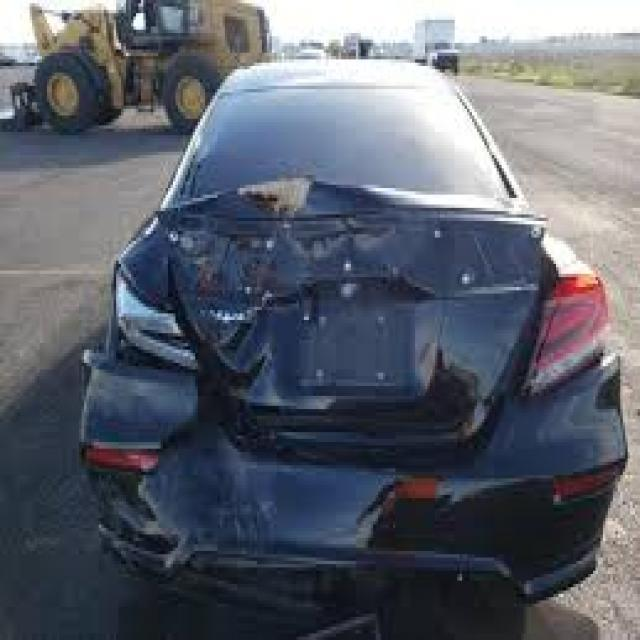damaged-trunk: (168, 177, 546, 437)
